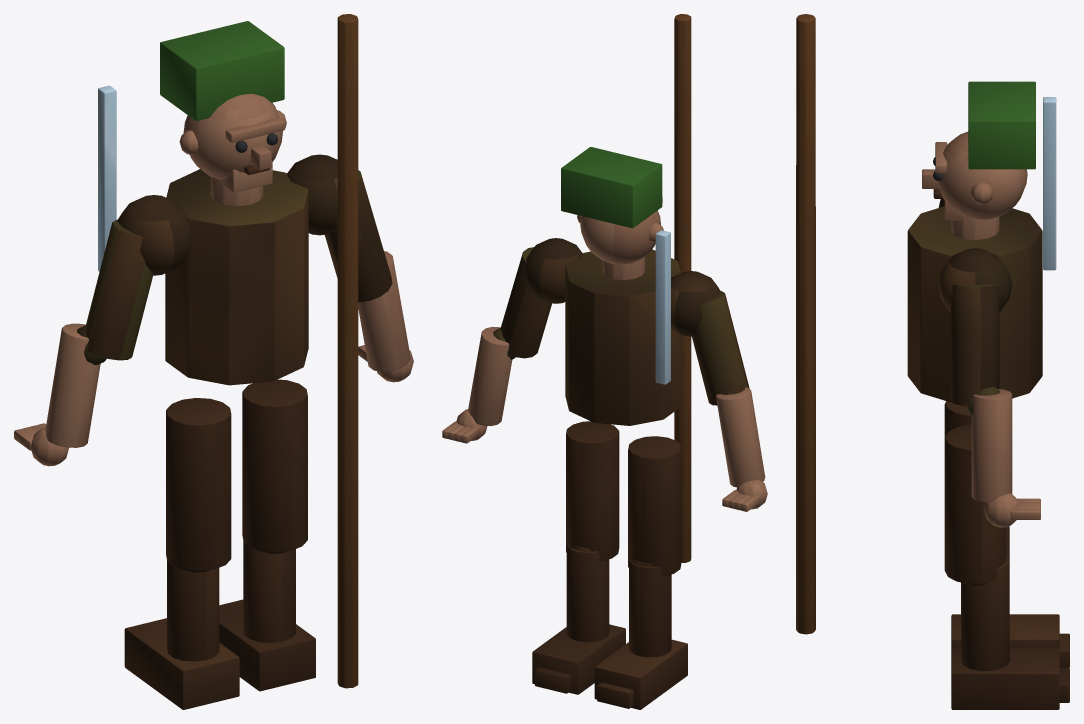
The model's file is unit_outcast_ranger.fbx.
3 views of the same model, side by side, from view 1: azimuth 30°, elevation 25°; view 2: azimuth 150°, elevation 25°; view 3: azimuth 270°, elevation 25° (orthographic). The views are drawn at different scales.
Parts seen in each view (by area): view 1: unit_outcast_ranger; view 2: unit_outcast_ranger; view 3: unit_outcast_ranger.
Part boxes in pixels (<box>): unit_outcast_ranger: <box>14,14,413,709</box>; unit_outcast_ranger: <box>442,14,767,709</box>; unit_outcast_ranger: <box>796,14,1069,709</box>.
Size of the model in its own units: 1.18 by 2.19 by 0.8093.
